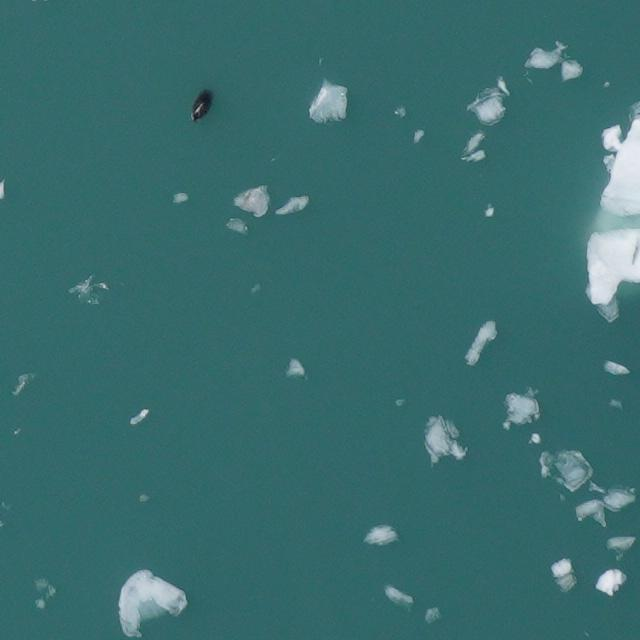seal: (186, 87, 216, 125)
